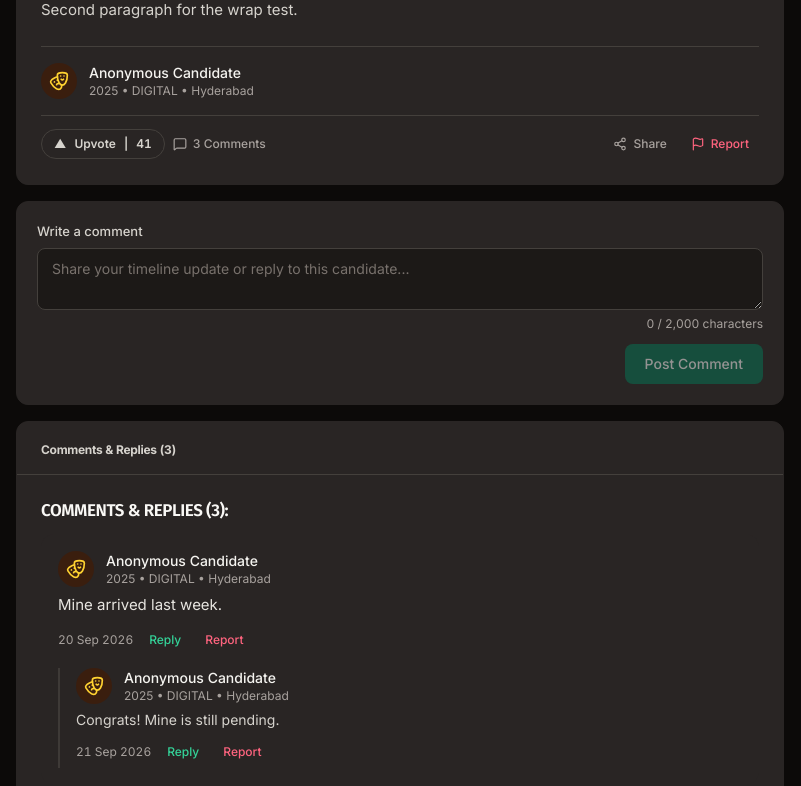
Test: PostDetailPage (§7.8) › autofocuses the inline reply form beneath its parent and POSTs parent_id
(page scrolled)
Expected: the text "Mine arrived last week." is shown, [58,595,222,614]
Step 1. Click the button "Reply" below "Mine arrived last week." → x=165, y=640, box [141,624,189,656]
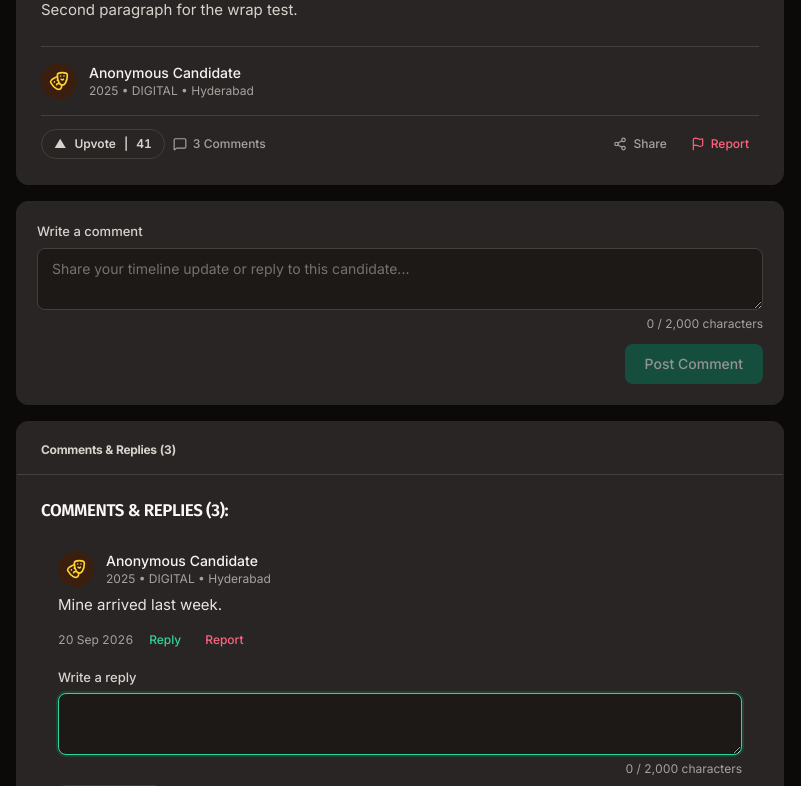
Step 2. Type "Thanks, hopeful news!" into the text box labelled "Write a reply" → x=400, y=724, box [58,693,742,755]
(page scrolled)
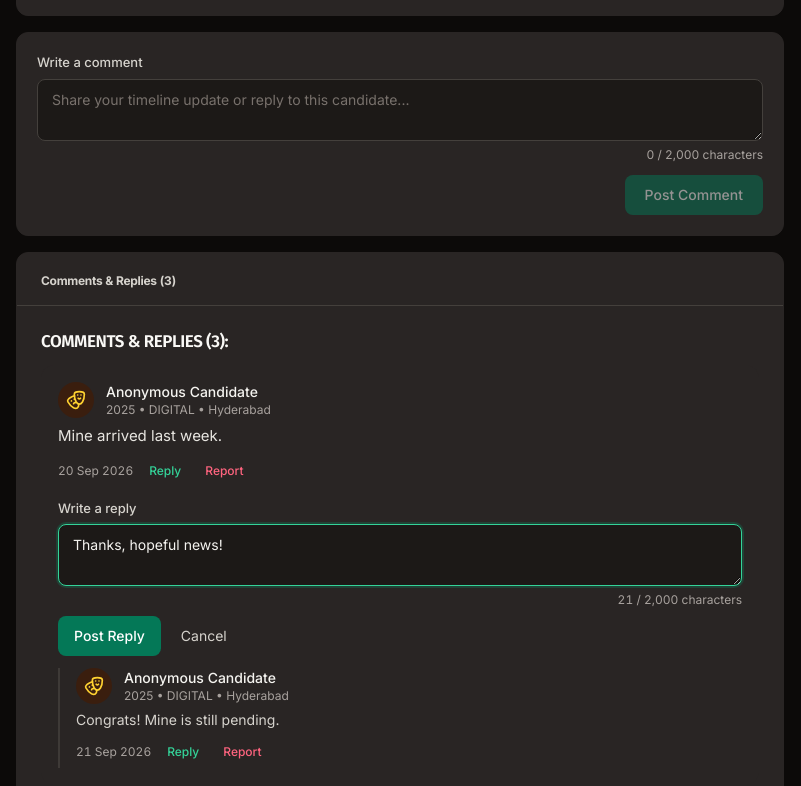
Step 3. Click the button "Post Reply" → x=109, y=636, box [58,616,161,656]
(page scrolled)
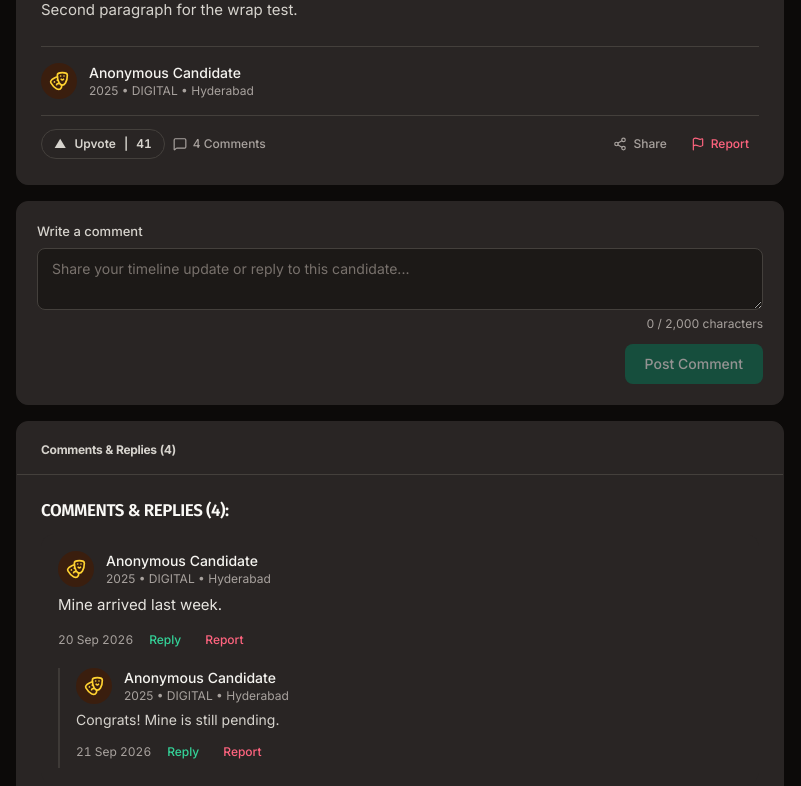
Expected: the text "4 Comments" is shown, [193,136,266,152]
